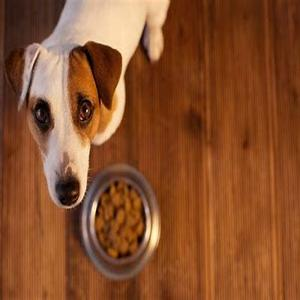dog: (11, 43, 123, 200)
